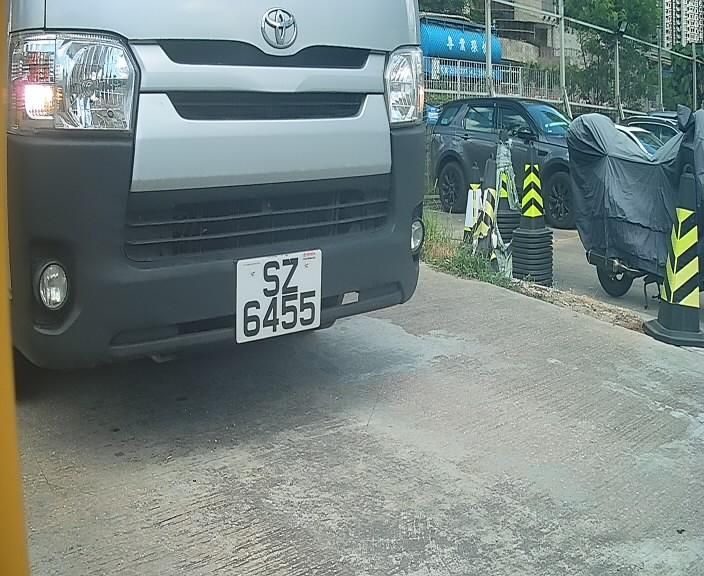License Plate: (227, 247, 334, 348)
